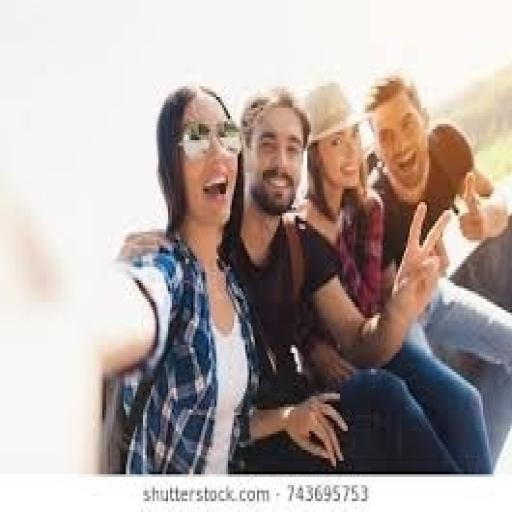sitting: (99, 72, 508, 472)
